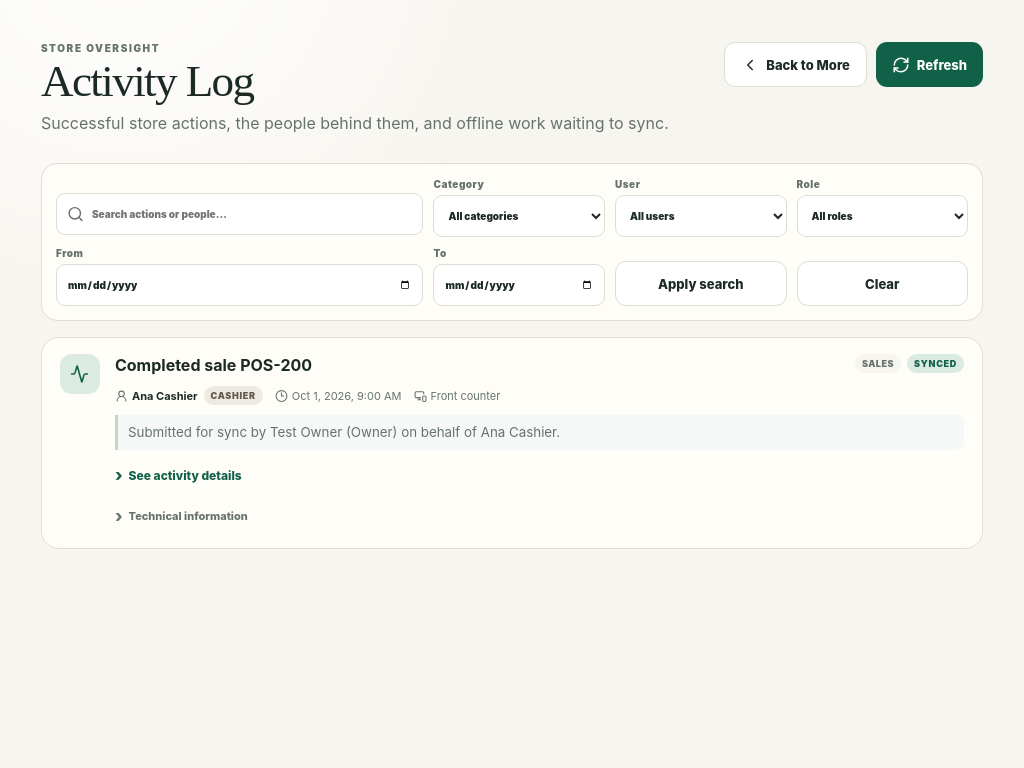
Test: Activity log UI and cache › shows readable details, sync state, and collapsed technical information
This screenshot has width=1024, height=768.
Check: the text "Completed sale POS-200" is shown, box top-left (115, 354), bottom-right (312, 377)
Check: the text "Synced" is shown, box top-left (907, 354), bottom-right (964, 373)
Click the heading "See activity details" at (185, 475), box top-left (129, 468), bottom-right (242, 482)
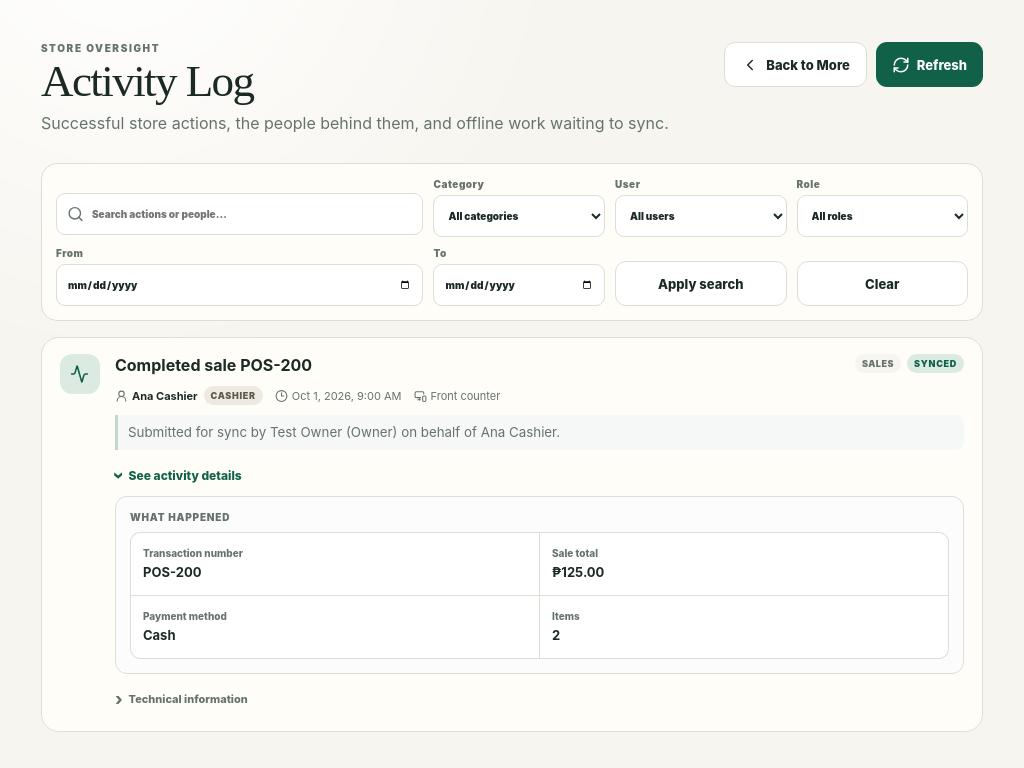
Check: the text "Sale total" is shown, box top-left (552, 547), bottom-right (598, 559)
Check: the text "₱125.00" is shown, box top-left (552, 564), bottom-right (604, 580)
Check: the text "Payment method" is shown, box top-left (143, 610), bottom-right (227, 622)
